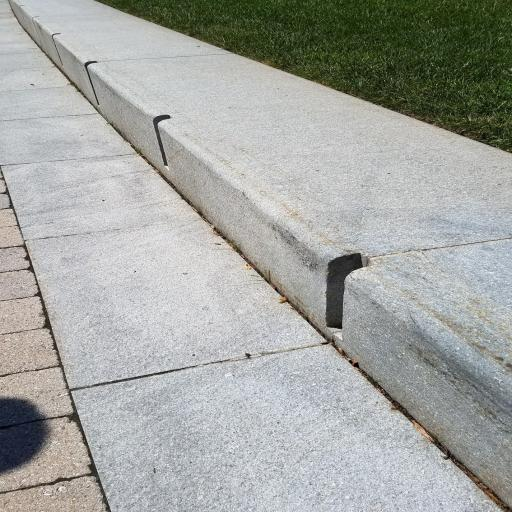construction_fence: (10, 0, 511, 500)
shelf: (0, 47, 499, 511)
